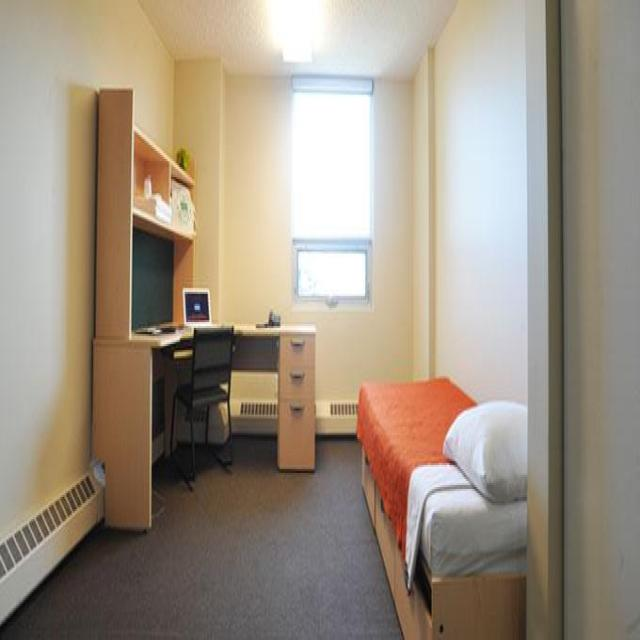other: (358, 369, 462, 475), (291, 95, 369, 231), (262, 3, 332, 61)
